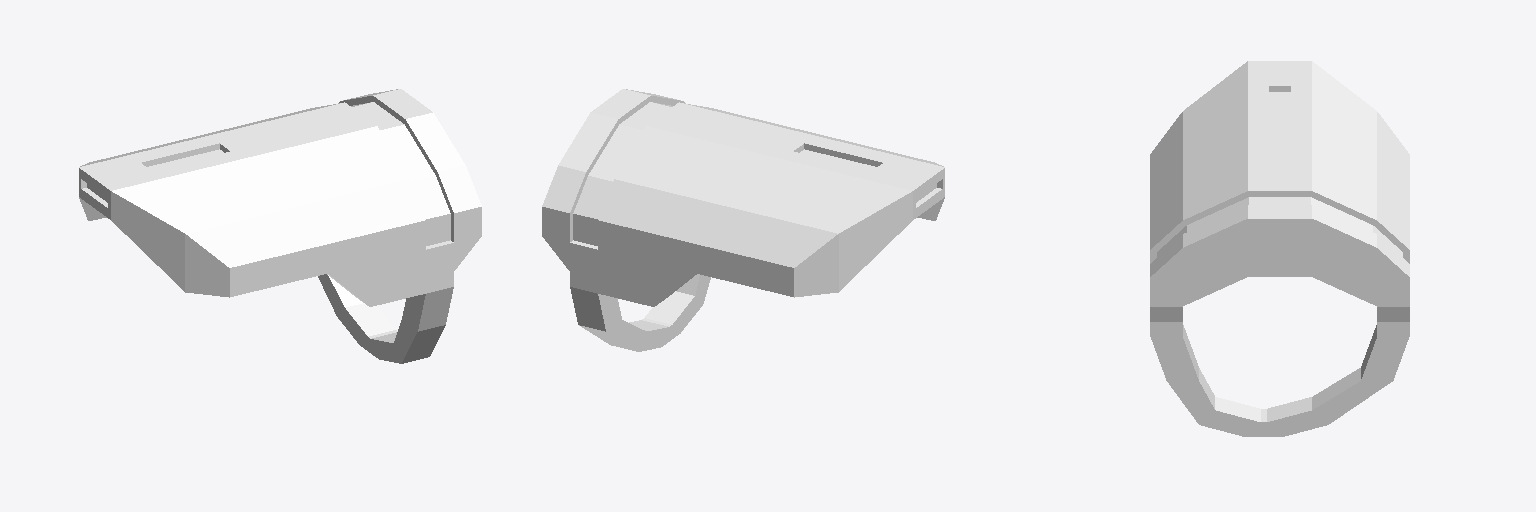
The model's file is MobileSRA-Type0.obj.
The picture shows the model from 3 angles: view 1: azimuth 30°, elevation 25°; view 2: azimuth 150°, elevation 25°; view 3: azimuth 270°, elevation 25°; orthographic projection.
Visible parts, largest first — view 1: MobileSRA-Type0; view 2: MobileSRA-Type0; view 3: MobileSRA-Type0.
Part boxes in pixels (left/top/right/bottom): MobileSRA-Type0: left=79, top=89, right=481, bottom=363; MobileSRA-Type0: left=542, top=89, right=944, bottom=351; MobileSRA-Type0: left=1150, top=61, right=1409, bottom=436.
Bounding box in the file's own units: 5.75 × 3.96 × 4.